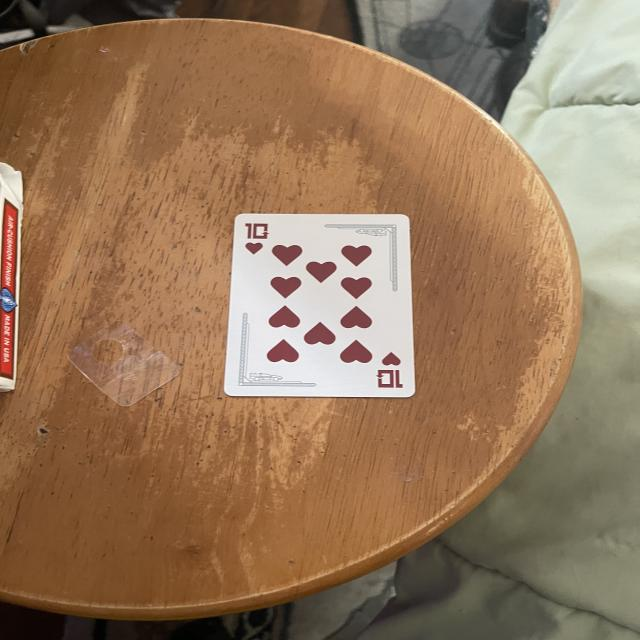10 of hearts: (228, 213, 408, 396)
